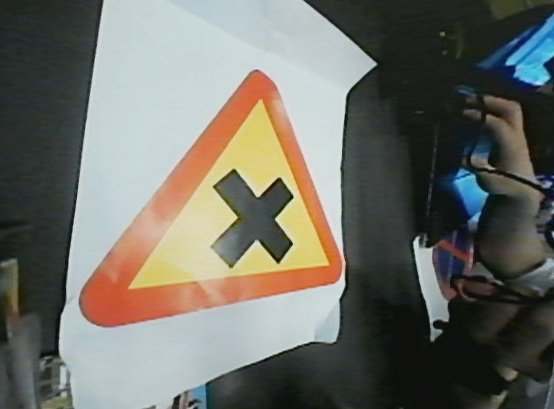junction: (55, 58, 365, 333)
